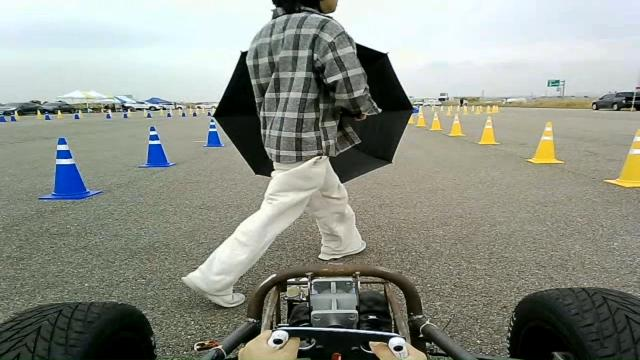blue cone: (38, 137, 102, 200), (137, 125, 176, 168), (202, 118, 225, 147)
yellow cone: (603, 128, 640, 188), (524, 121, 564, 164), (475, 115, 500, 145), (447, 113, 465, 136), (429, 112, 443, 131), (415, 108, 426, 127), (630, 129, 640, 149), (542, 122, 553, 138), (408, 113, 414, 124)
